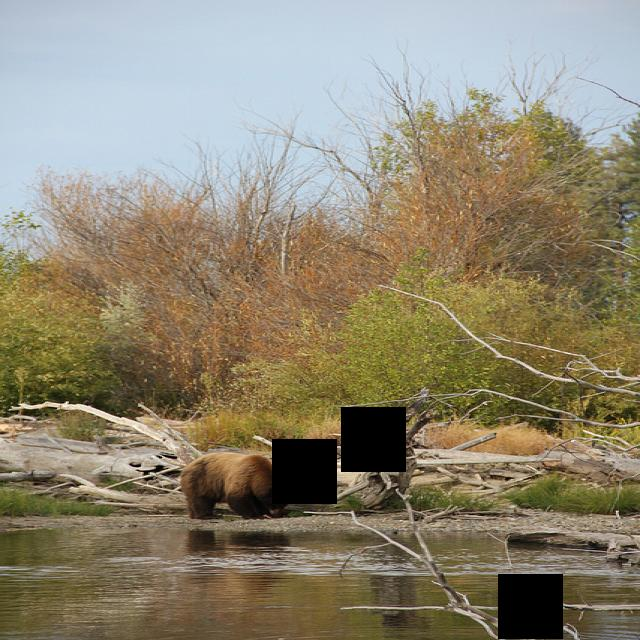Bear: (175, 445, 296, 522)
